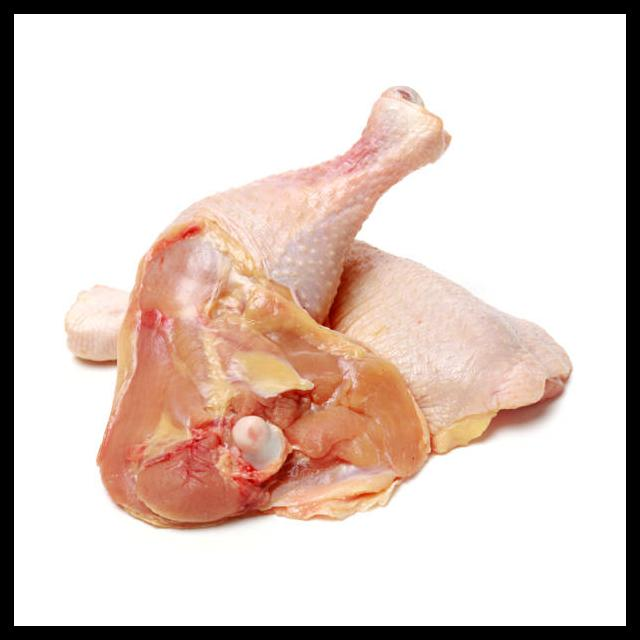chicken: (62, 81, 574, 532)
